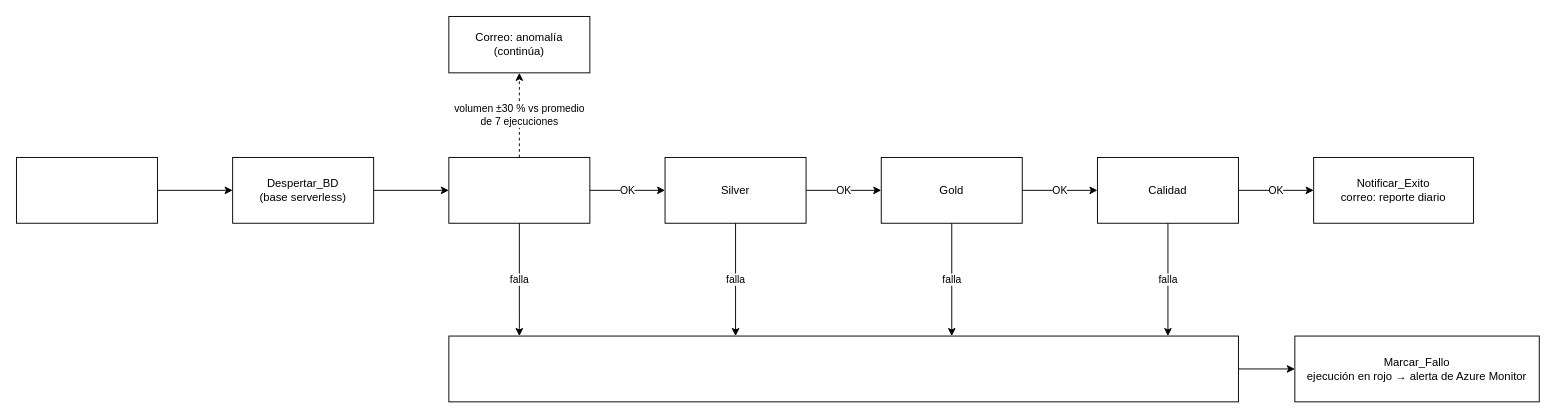
This 1556x418 diagram has some shape labels left out. The shapes that lost their labels are listed below. From the top down, each one's box as (x1, y1, x2, y2) in pixels, then its label:
(16, 157, 157, 223): Trigger diario 02:00 Bogotá o manual
(448, 157, 590, 223): Bronze + validación de volumen
(448, 335, 1238, 402): Notificar_Fallo correo: tarea, capa, hora, error
